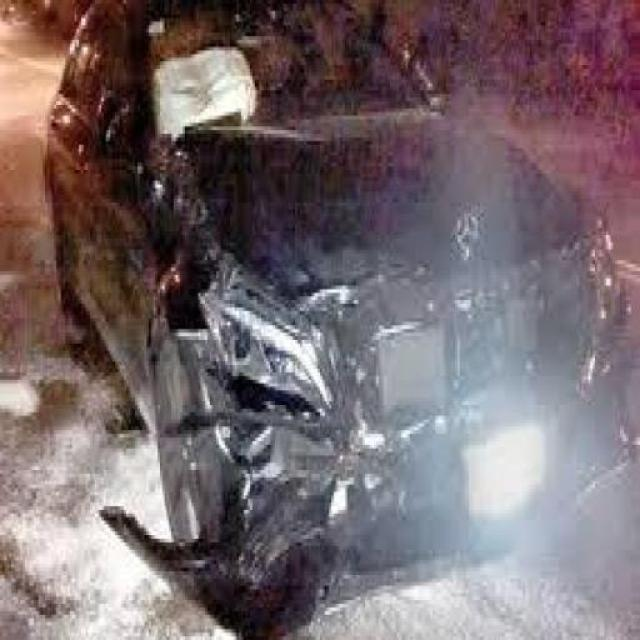crush: (104, 229, 636, 635)
